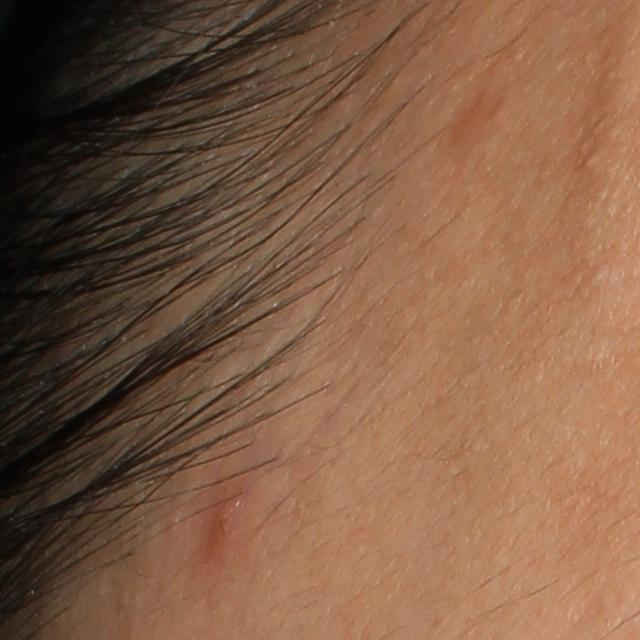papule: (205, 493, 240, 553)
